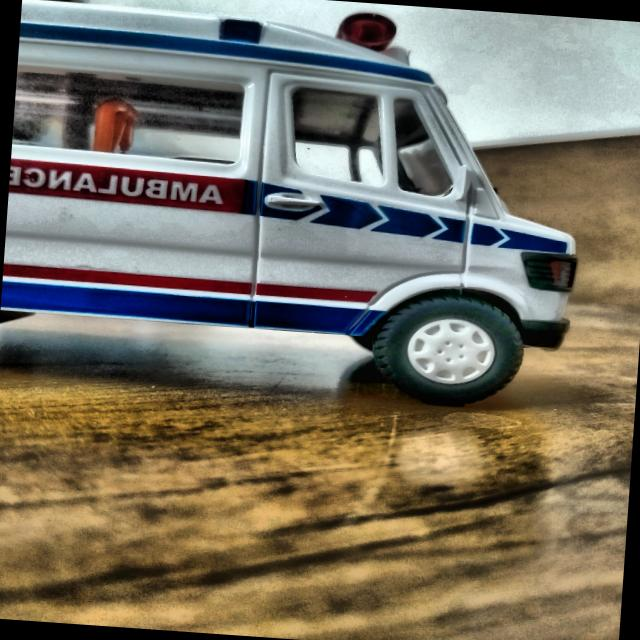Ambulance: (0, 0, 601, 437)
